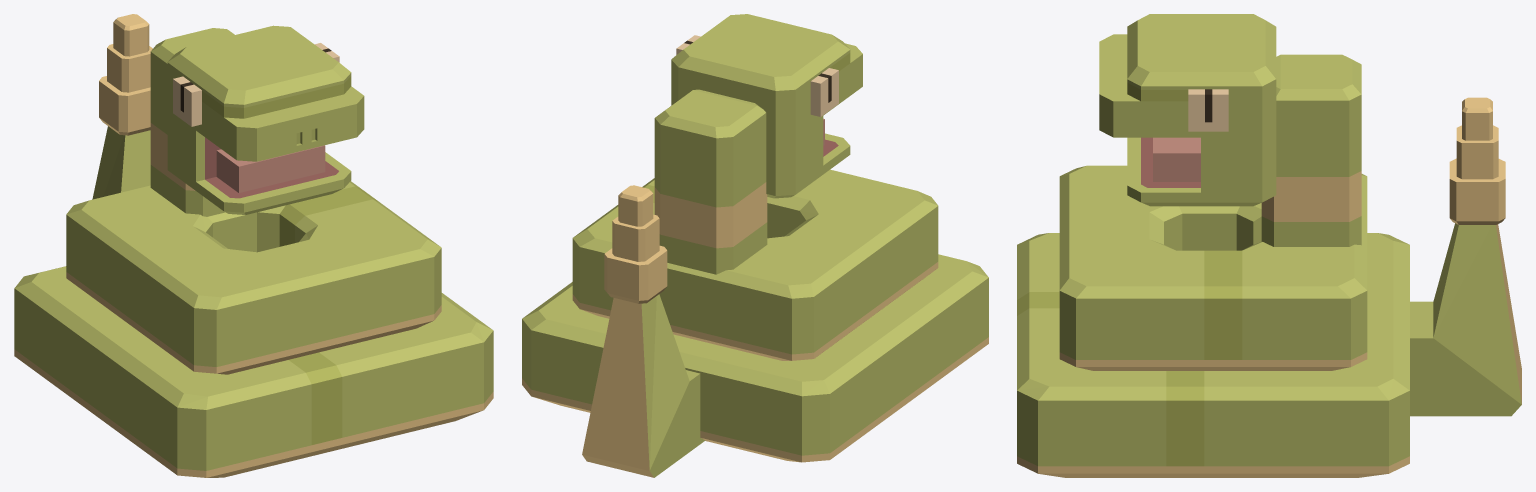
Rendered from model_shiny.obj.
3 renders of one model, left to right at view 1: azimuth 30°, elevation 25°; view 2: azimuth 150°, elevation 25°; view 3: azimuth 270°, elevation 25°, orthographic. The views are drawn at different scales.
Visible parts, largest first — view 1: 0023_ekans_shiny; view 2: 0023_ekans_shiny; view 3: 0023_ekans_shiny.
Boxes of the visible parts, x1,y1,x2,y2 form: 0023_ekans_shiny: [14, 14, 493, 477]; 0023_ekans_shiny: [522, 14, 988, 477]; 0023_ekans_shiny: [1017, 14, 1521, 477].
Size of the model in its own units: 1.72 by 1.73 by 2.21.
Materials: 1 (1 with a texture image).
